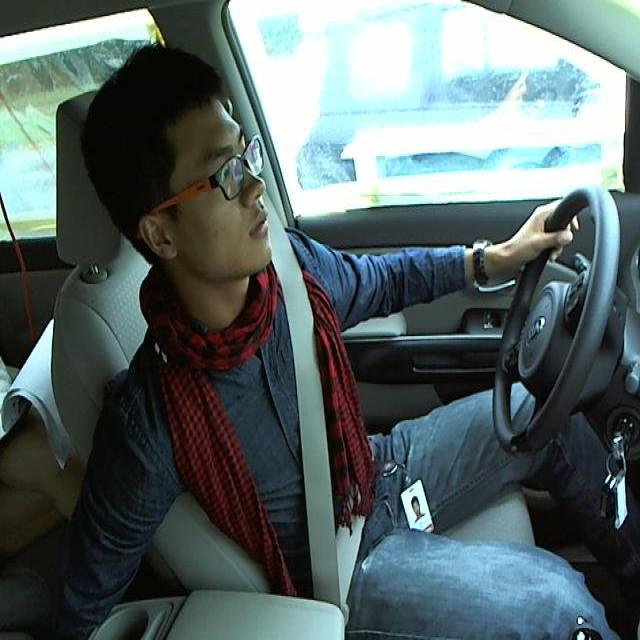seatbelt: (269, 262, 385, 594)
